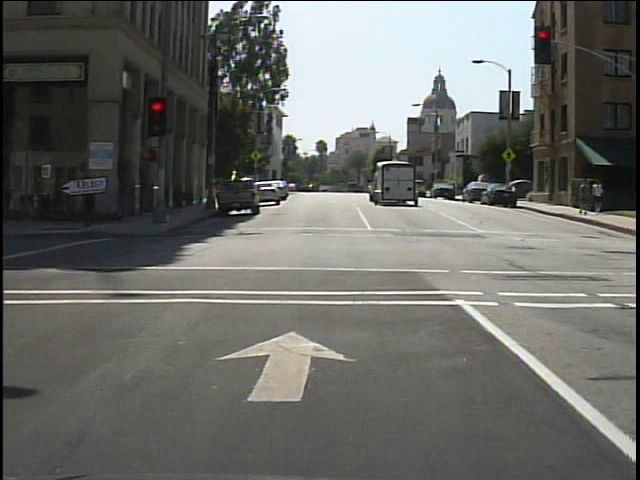person: (74, 169, 111, 234), (577, 178, 594, 219), (591, 178, 607, 218)
